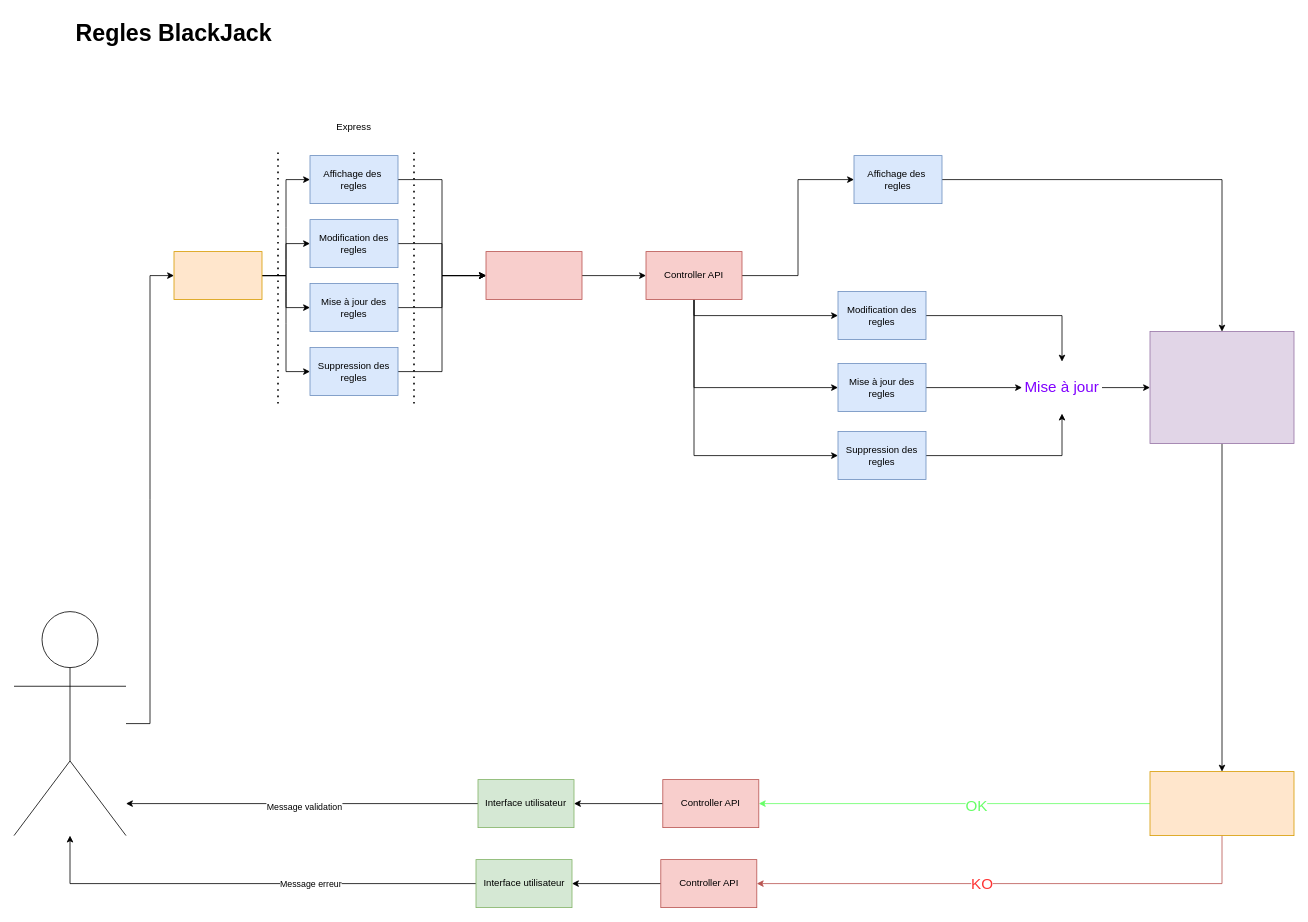
Image size: 1308x922. Some labels were removed from this diagram. The shapes that lost their labels are listed below. From the top down, each one's box as (x1, y1, x2, y2) in pixels, then its label:
(173, 251, 262, 300): Identification
(485, 251, 582, 300): Requete API
(1149, 331, 1294, 444): BDD
(13, 611, 126, 836): Admin
(1149, 771, 1294, 836): Service gestion regles
